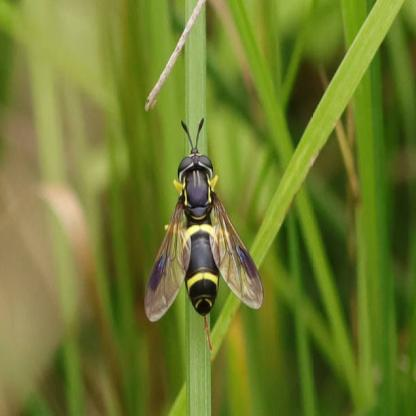sawfly: (138, 115, 266, 328)
